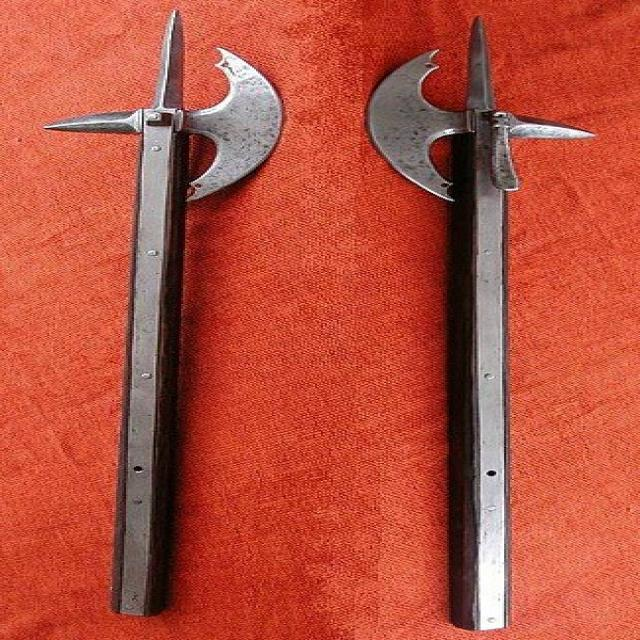Gun: (345, 4, 563, 640), (77, 15, 241, 627)
